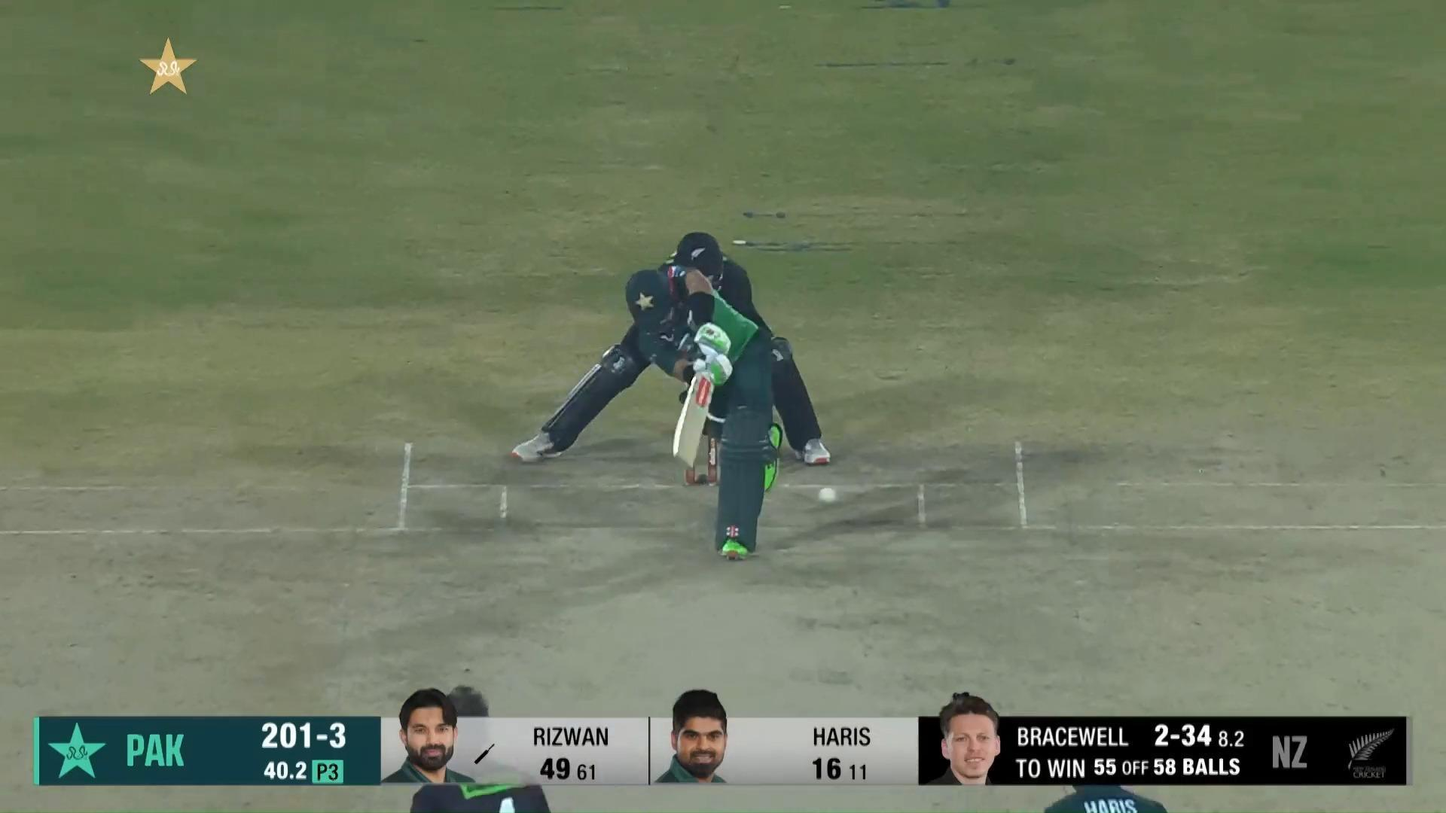BM 1: (624, 263, 774, 562)
BO: (409, 682, 551, 813)
